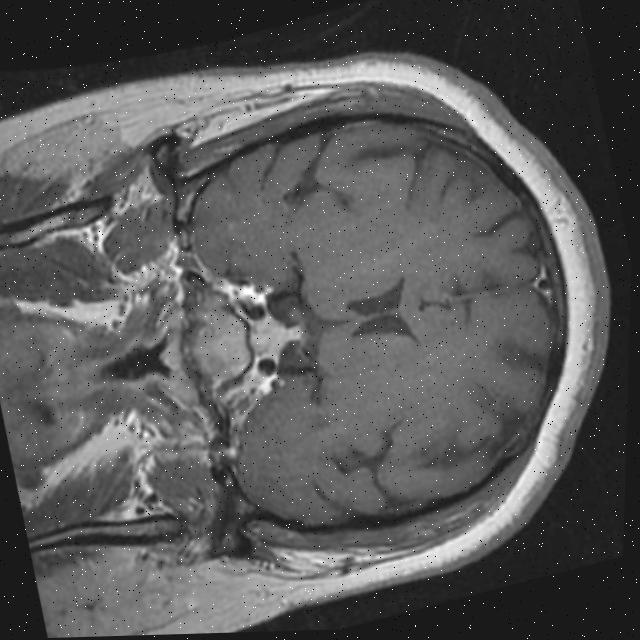Pituitary: (184, 318, 254, 387), (243, 307, 305, 362)
